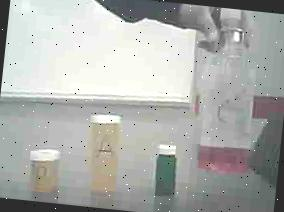Bottle A: (75, 106, 139, 200)
Bottle B: (21, 140, 67, 203)
Bottle C: (146, 140, 188, 206)
hazard: (180, 5, 284, 187)
